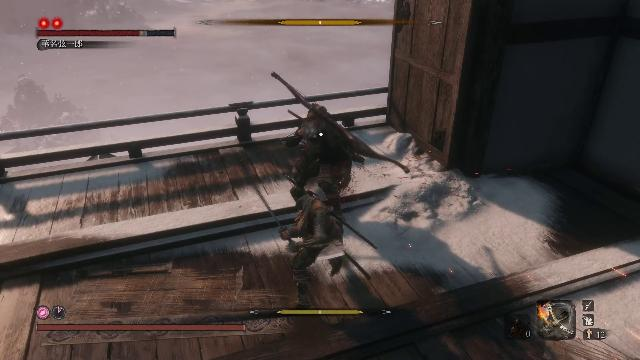sk: (274, 179, 351, 318)
